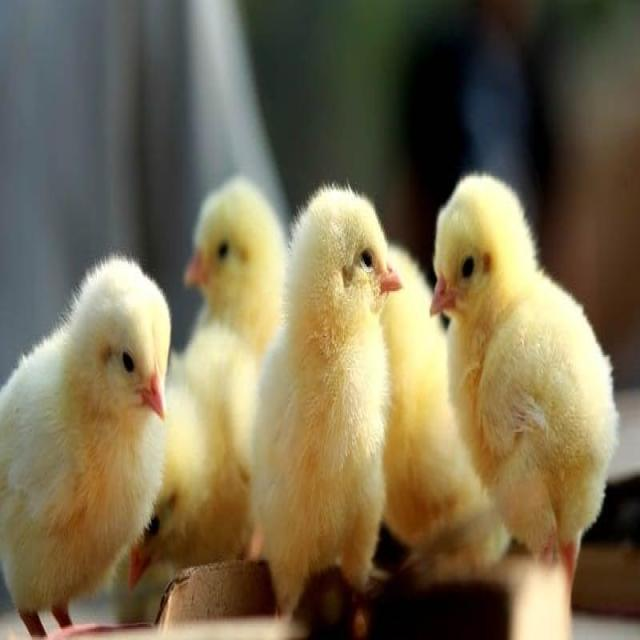poussin: (429, 176, 619, 589), (251, 176, 403, 624), (0, 255, 174, 640), (374, 232, 496, 598), (120, 326, 268, 600), (180, 176, 284, 343)
